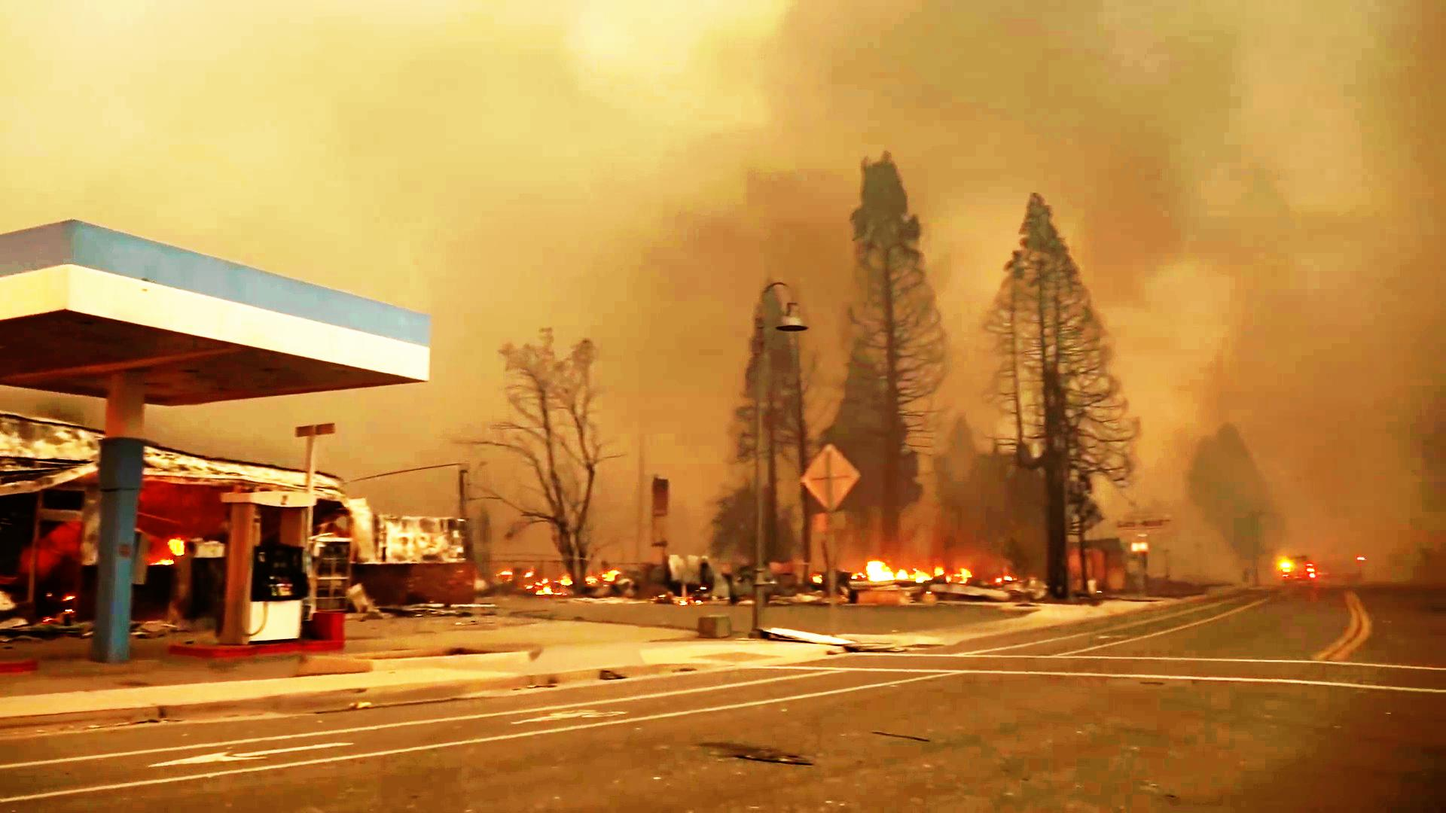smoke: (1135, 5, 1412, 450), (403, 0, 712, 311), (740, 6, 1258, 147)
